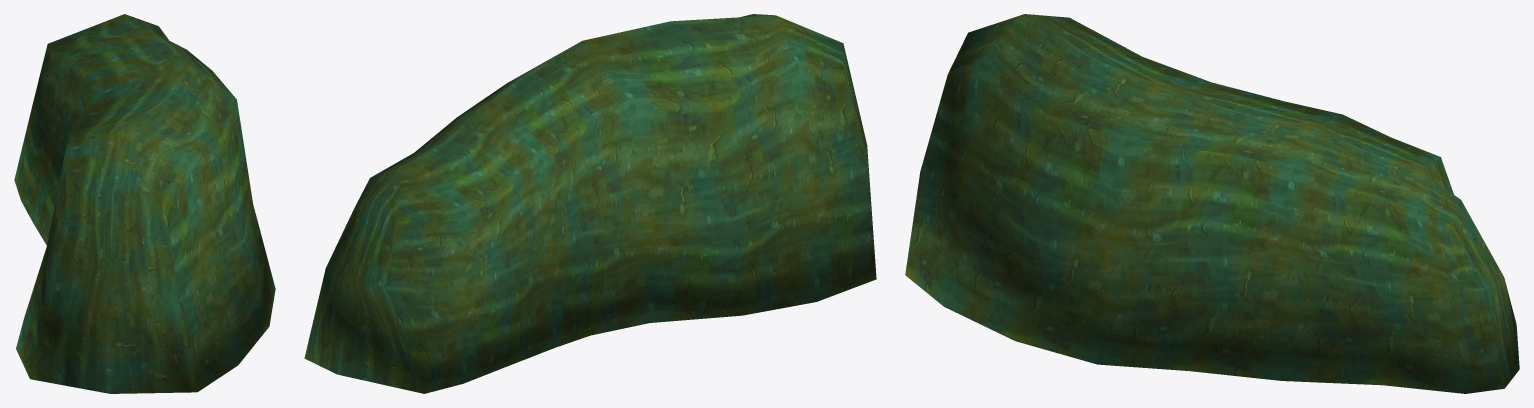
File: MIRKWOOD_MIRK_PLAYSURFACE158.fbx
3 views of the same model, side by side, from view 1: azimuth 30°, elevation 25°; view 2: azimuth 150°, elevation 25°; view 3: azimuth 270°, elevation 25° (orthographic). The views are drawn at different scales.
Parts seen in each view (by area): view 1: MIRKWOOD_MIRK_PLAYSURFACE158; view 2: MIRKWOOD_MIRK_PLAYSURFACE158; view 3: MIRKWOOD_MIRK_PLAYSURFACE158.
Part boxes in pixels (x1,y1,x2,y2): MIRKWOOD_MIRK_PLAYSURFACE158: [14, 14, 275, 393]; MIRKWOOD_MIRK_PLAYSURFACE158: [304, 14, 876, 393]; MIRKWOOD_MIRK_PLAYSURFACE158: [905, 14, 1519, 393].
Bounding box in the file's own units: 49212 × 31550 × 69637.
1 material, 1 textured.
